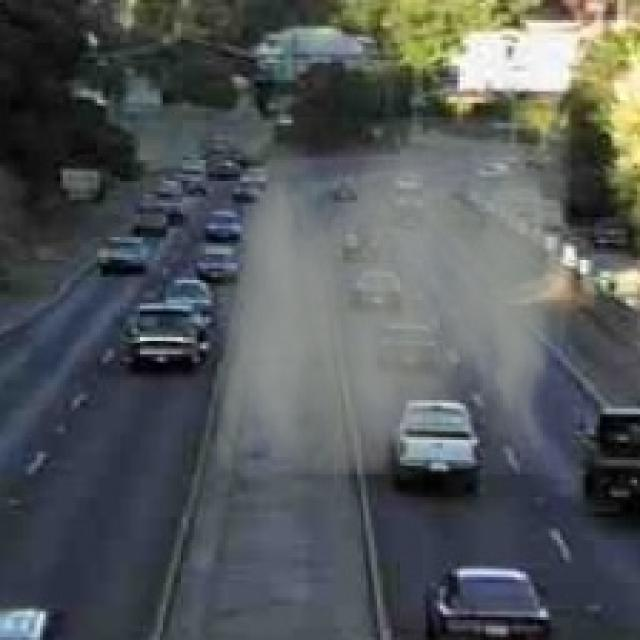Smoke: (217, 117, 572, 474)
